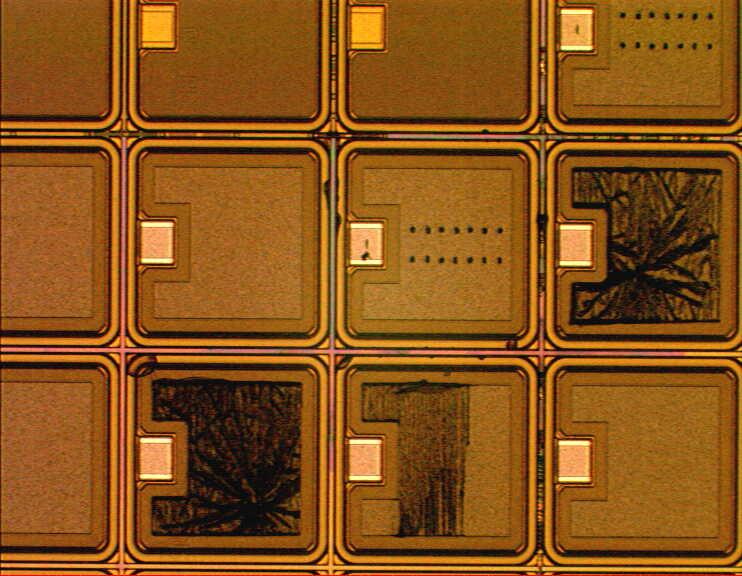SEZ BURNT: (153, 171, 725, 539)
